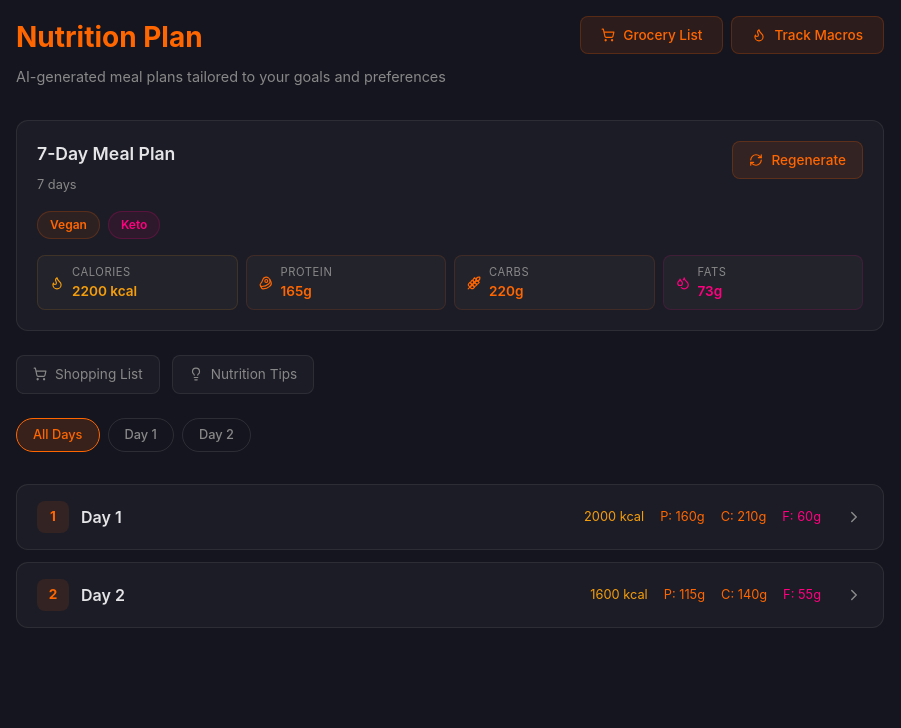
NutritionPage › toggles nutrition tips panel
Click tips button
Click the button "Nutrition Tips" at (243, 374), box left=172, top=355, right=314, bottom=394
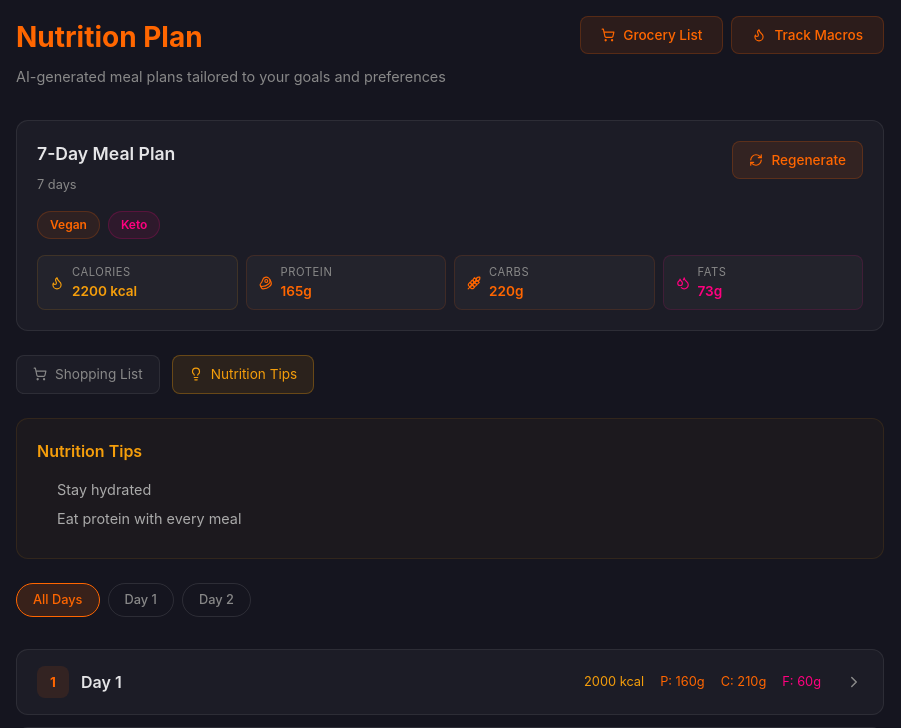
Expected: the list item "Stay hydrated" is shown, left=57, top=481, right=151, bottom=498
Expected: the list item "Eat protein with every meal" is shown, left=57, top=510, right=241, bottom=527
